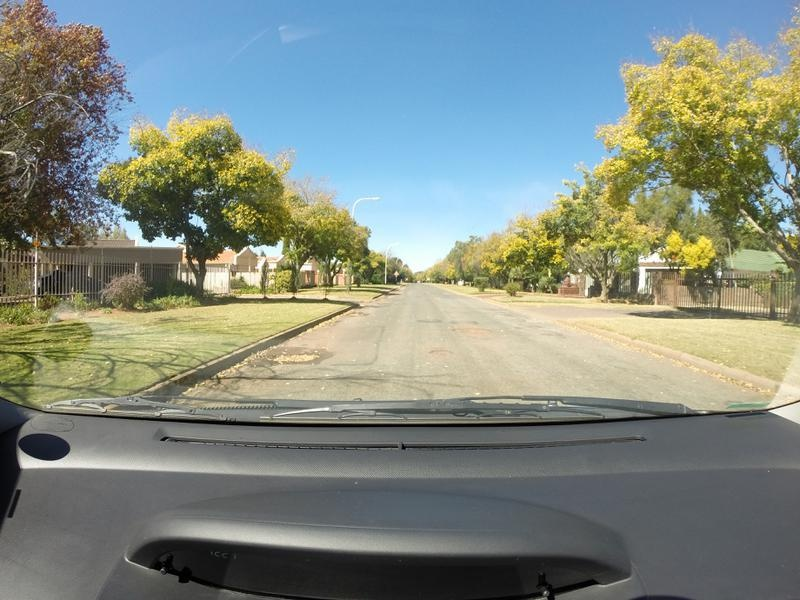pothole: (453, 321, 499, 337), (281, 348, 319, 366), (431, 347, 452, 354)
